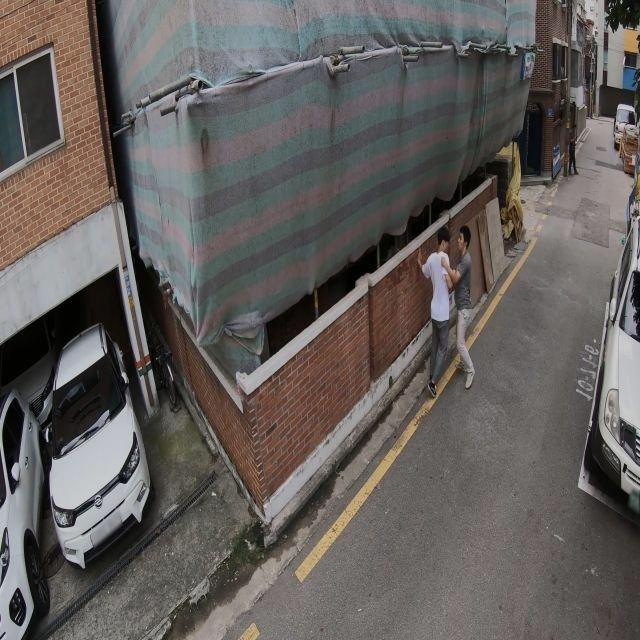fight: (421, 225, 477, 397)
